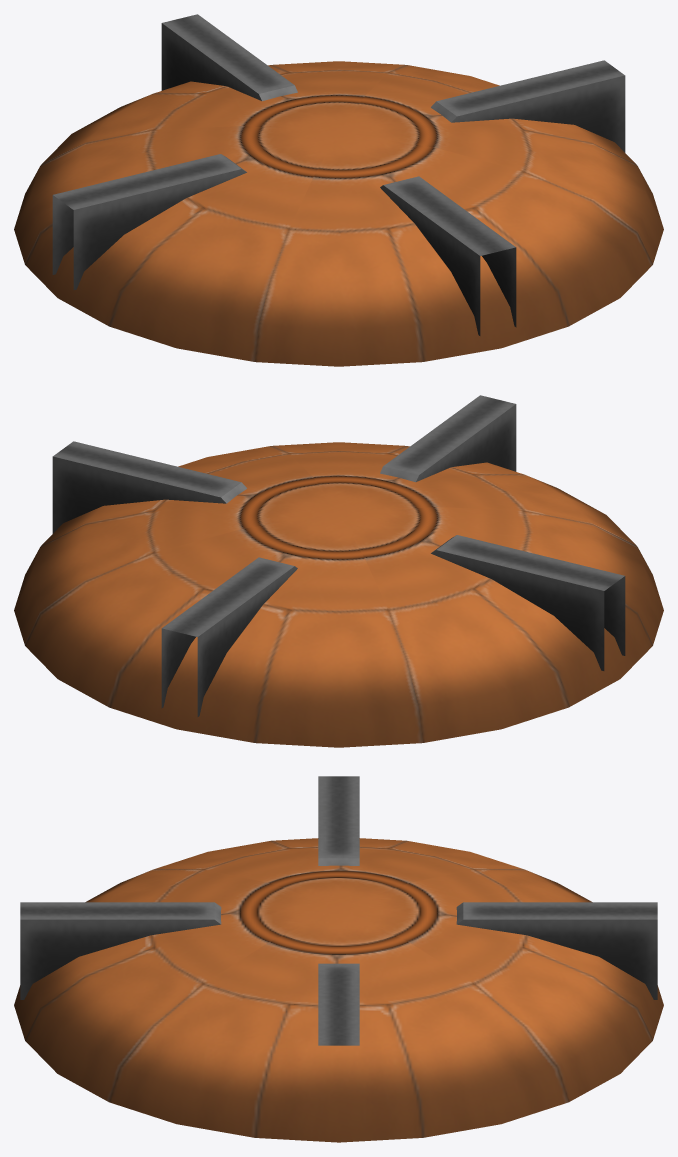
The model's file is TankTopper.dae.
3 views of the same model, one above another, from view 1: azimuth 30°, elevation 25°; view 2: azimuth 150°, elevation 25°; view 3: azimuth 270°, elevation 25° (orthographic).
Visible parts, largest first — view 1: TankTopper, pCube5, pCube3, pCube2, pCube4; view 2: TankTopper, pCube5, pCube3, pCube4, pCube2; view 3: TankTopper, pCube2, pCube4, pCube5, pCube3.
Boxes of the visible parts, bbox=[...] form: TankTopper: bbox=[14, 61, 663, 366]; pCube5: bbox=[52, 154, 246, 289]; pCube3: bbox=[431, 60, 625, 152]; pCube2: bbox=[380, 176, 516, 335]; pCube4: bbox=[161, 14, 297, 101]; TankTopper: bbox=[14, 442, 663, 747]; pCube5: bbox=[431, 535, 625, 670]; pCube3: bbox=[52, 441, 246, 533]; pCube4: bbox=[161, 557, 297, 716]; pCube2: bbox=[380, 395, 516, 482]; TankTopper: bbox=[14, 838, 663, 1142]; pCube2: bbox=[20, 902, 221, 999]; pCube4: bbox=[456, 902, 657, 999]; pCube5: bbox=[318, 776, 359, 865]; pCube3: bbox=[318, 963, 359, 1045].
Size of the model in its own units: 1.22 by 0.2016 by 1.22.
